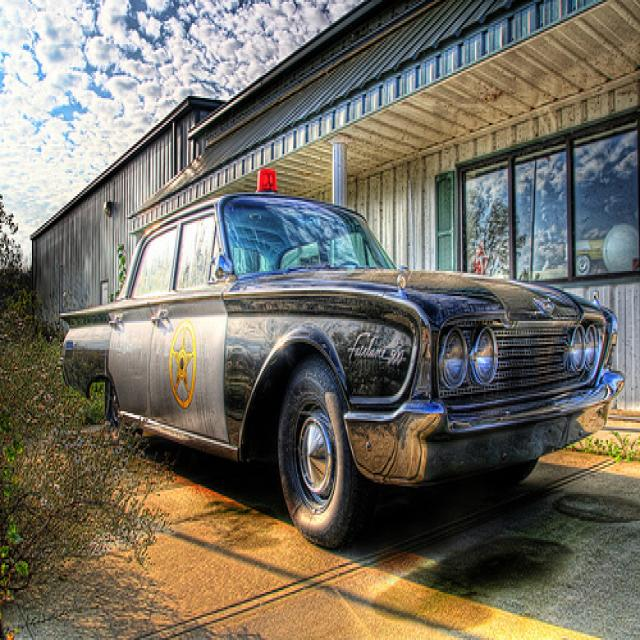Car: (52, 190, 624, 542)
